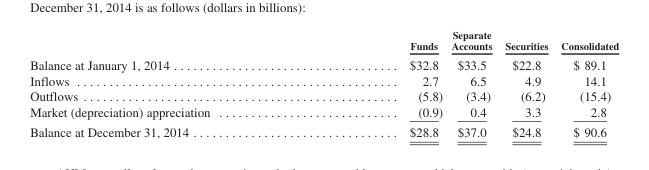table: (29, 28, 618, 139)
table column: (29, 28, 309, 139), (309, 28, 446, 139), (553, 28, 618, 139), (498, 28, 553, 139), (446, 28, 498, 139)
table column header: (29, 28, 618, 54)
table row: (29, 28, 618, 54), (29, 54, 618, 72), (29, 103, 618, 121), (29, 121, 618, 139), (29, 72, 618, 88), (29, 88, 618, 103)
